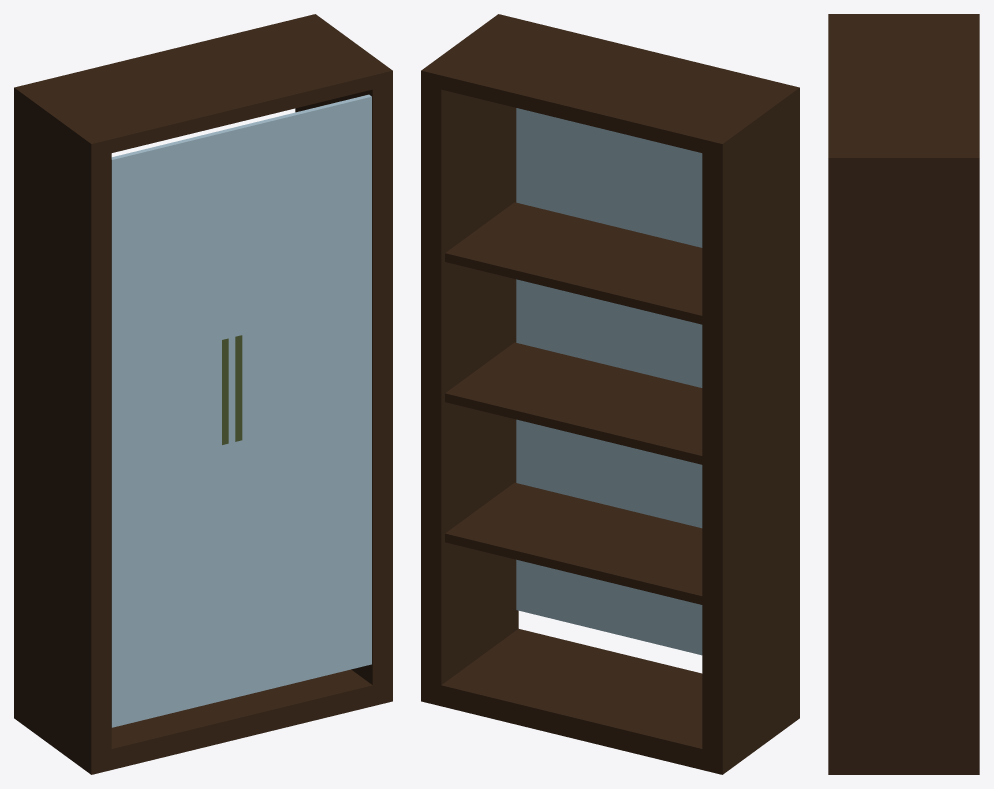
Rendered from displaycabinet.glb.
The picture shows the model from 3 angles, left to right: view 1: azimuth 30°, elevation 25°; view 2: azimuth 150°, elevation 25°; view 3: azimuth 270°, elevation 25°; orthographic projection. The views are drawn at different scales.
Parts seen in each view (by area): view 1: material-1-glass, material-0-body, material-2-metal; view 2: material-0-body, material-1-glass; view 3: material-0-body.
Boxes of the visible parts, x1,y1,x2,y2 form: material-1-glass: (111, 94, 371, 727); material-0-body: (14, 14, 392, 774); material-2-metal: (222, 335, 242, 444); material-0-body: (421, 14, 799, 774); material-1-glass: (516, 108, 702, 655); material-0-body: (828, 14, 979, 774).
Size of the model in its own units: 0.9 by 1.8 by 0.4.
